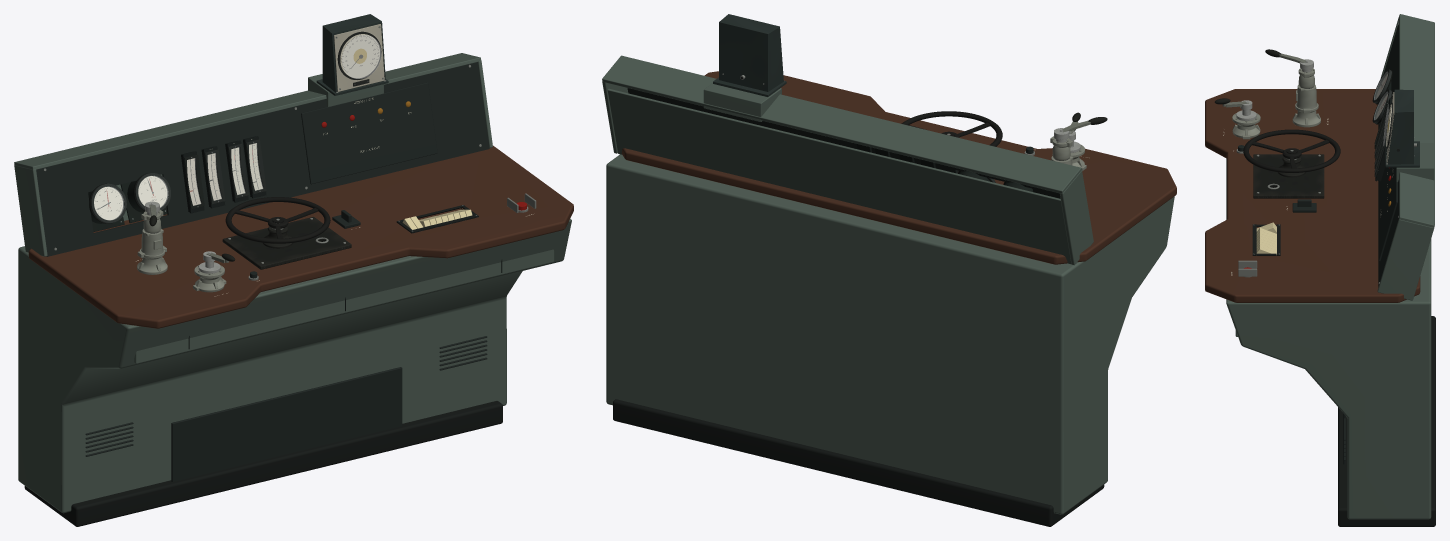
The model's file is main_console_study.glb.
3 views of the same model, side by side, from view 1: azimuth 30°, elevation 25°; view 2: azimuth 150°, elevation 25°; view 3: azimuth 270°, elevation 25° (orthographic). The views are drawn at different scales.
Parts seen in each view (by area): view 1: Continuous_Folded_Console_Shell, Contoured_Control_Deck, Removable_Instrument_Panel, Knee_Recess_Kick_Plate, Recessed_Toe_Plinth, Auxiliary_Control_Plate, Upper_Front_Service_Fascia, Instrument_Bank_Top_Return, Fixed_Mounting_Plate, Instrument_Bank_Side_Cheek, Fixed_Tapered_Rear_Housing, Fixed_Protective_Glass.002 (+9 smaller); view 2: Continuous_Folded_Console_Shell, Instrument_Bank_Rear_Housing, Contoured_Control_Deck, Instrument_Bank_Top_Return, Recessed_Toe_Plinth, Fixed_Tapered_Rear_Housing, Instrument_Bank_Side_Cheek, Removable_Instrument_Panel, Speedometer_Stand, Moving_Handwheel_Rim; view 3: Contoured_Control_Deck, Continuous_Folded_Console_Shell, Instrument_Bank_Top_Return, Instrument_Bank_Side_Cheek.001, Recessed_Toe_Plinth, Fixed_Mounting_Plate, Fixed_Tapered_Rear_Housing, Removable_Instrument_Panel, Moving_Handwheel_Rim, Auxiliary_Control_Plate, Tall_Lower_Casting, Speedometer_Stand (+2 smaller).
Boxes of the visible parts, left/top/right/bottom form: Continuous_Folded_Console_Shell: left=18, top=218, right=571, bottom=513; Contoured_Control_Deck: left=28, top=145, right=573, bottom=328; Removable_Instrument_Panel: left=36, top=62, right=489, bottom=256; Knee_Recess_Kick_Plate: left=171, top=367, right=402, bottom=481; Recessed_Toe_Plinth: left=24, top=401, right=502, bottom=526; Auxiliary_Control_Plate: left=301, top=82, right=437, bottom=184; Upper_Front_Service_Fascia: left=134, top=249, right=554, bottom=363; Instrument_Bank_Top_Return: left=14, top=53, right=481, bottom=169; Fixed_Mounting_Plate: left=222, top=217, right=351, bottom=269; Instrument_Bank_Side_Cheek: left=14, top=165, right=47, bottom=256; Fixed_Tapered_Rear_Housing: left=322, top=14, right=385, bottom=92; Fixed_Protective_Glass.002: left=342, top=35, right=381, bottom=78; Continuous_Folded_Console_Shell: left=606, top=154, right=1174, bottom=514; Instrument_Bank_Rear_Housing: left=607, top=88, right=1071, bottom=264; Contoured_Control_Deck: left=621, top=71, right=1176, bottom=264; Instrument_Bank_Top_Return: left=602, top=55, right=1081, bottom=193; Recessed_Toe_Plinth: left=613, top=399, right=1104, bottom=526; Fixed_Tapered_Rear_Housing: left=719, top=14, right=783, bottom=91; Instrument_Bank_Side_Cheek: left=1059, top=170, right=1093, bottom=265; Removable_Instrument_Panel: left=627, top=88, right=1060, bottom=198; Speedometer_Stand: left=703, top=83, right=781, bottom=121; Moving_Handwheel_Rim: left=901, top=111, right=1002, bottom=146; Contoured_Control_Deck: left=1205, top=89, right=1420, bottom=302; Continuous_Folded_Console_Shell: left=1226, top=158, right=1431, bottom=519; Instrument_Bank_Top_Return: left=1399, top=14, right=1434, bottom=227; Instrument_Bank_Side_Cheek.001: left=1377, top=219, right=1434, bottom=300; Recessed_Toe_Plinth: left=1338, top=316, right=1435, bottom=526; Fixed_Mounting_Plate: left=1253, top=154, right=1324, bottom=198; Fixed_Tapered_Rear_Housing: left=1387, top=89, right=1413, bottom=164; Removable_Instrument_Panel: left=1378, top=25, right=1398, bottom=287; Moving_Handwheel_Rim: left=1243, top=129, right=1340, bottom=172; Auxiliary_Control_Plate: left=1378, top=167, right=1397, bottom=261; Tall_Lower_Casting: left=1292, top=84, right=1320, bottom=127; Speedometer_Stand: left=1396, top=143, right=1434, bottom=181.
Bounding box in the file's own units: 1.55 × 1.3 × 0.73.
58 materials, 24 textured.
